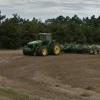Tractor: (18, 26, 70, 60)
